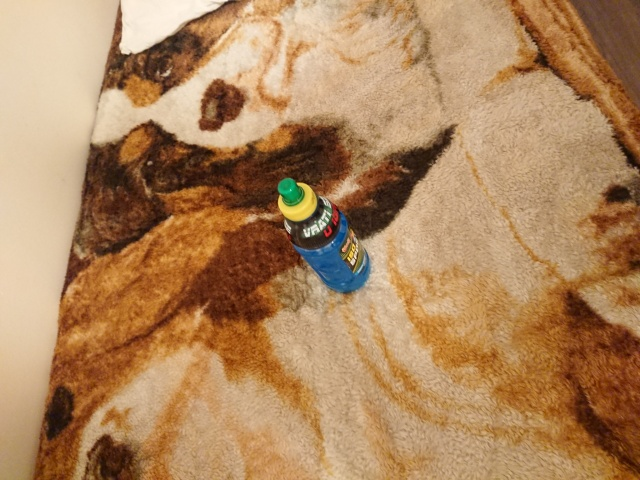Vindi Iso Sport Forest Strawberries 500mL: (275, 175, 373, 295)
